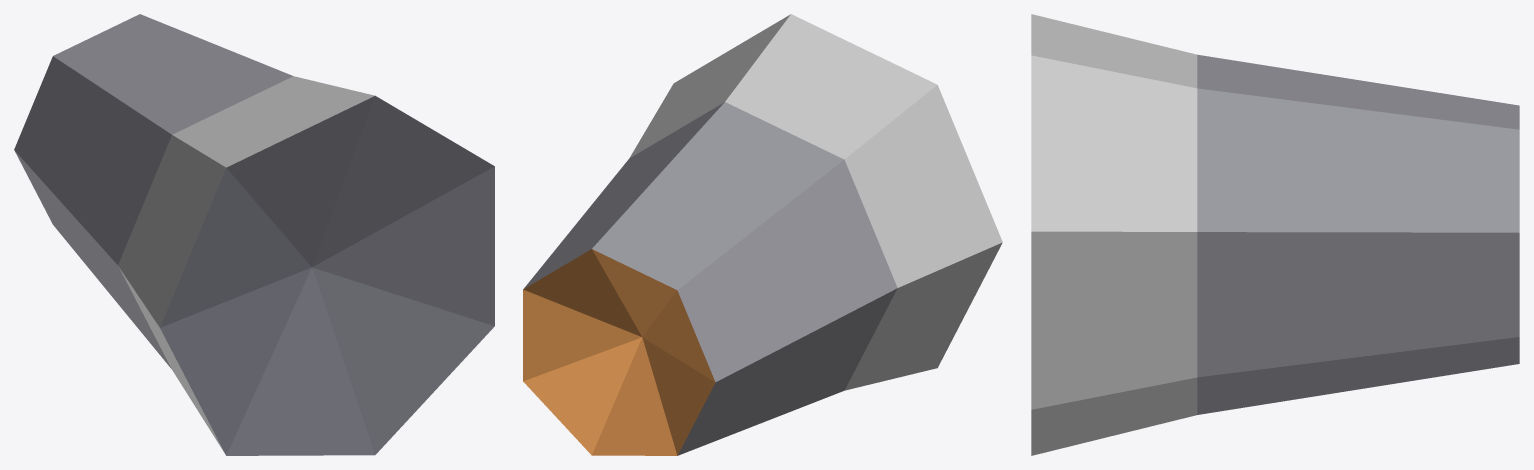
File: engine_anvil.obj
3 views of the same model, side by side, from view 1: azimuth 30°, elevation 25°; view 2: azimuth 150°, elevation 25°; view 3: azimuth 270°, elevation 25° (orthographic). The views are drawn at different scales.
Visible parts, largest first — view 1: engine_anvil; view 2: engine_anvil; view 3: engine_anvil.
Part boxes in pixels (x1,y1,x2,y2): engine_anvil: [14, 14, 494, 455]; engine_anvil: [523, 14, 1002, 455]; engine_anvil: [1031, 14, 1519, 455].
Bounding box in the file's own units: 2.47 × 2.53 × 2.8.
